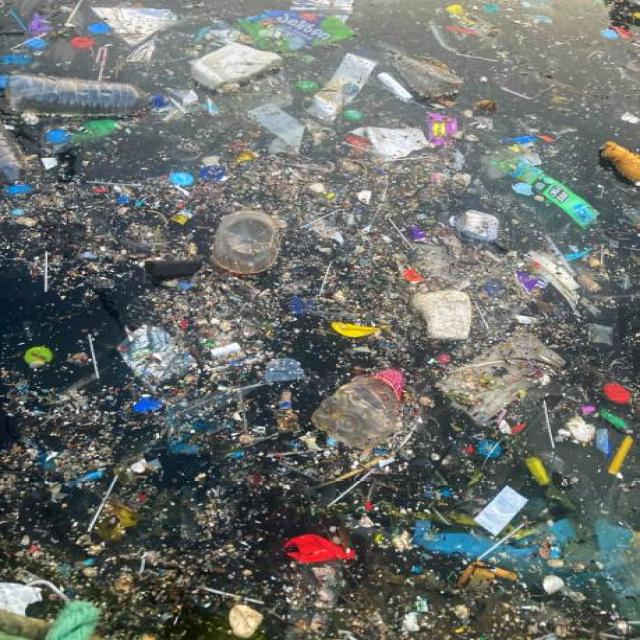garbage: (0, 159, 449, 379), (2, 409, 410, 633), (468, 424, 631, 633), (484, 129, 640, 234), (0, 63, 177, 130), (189, 42, 283, 97)
